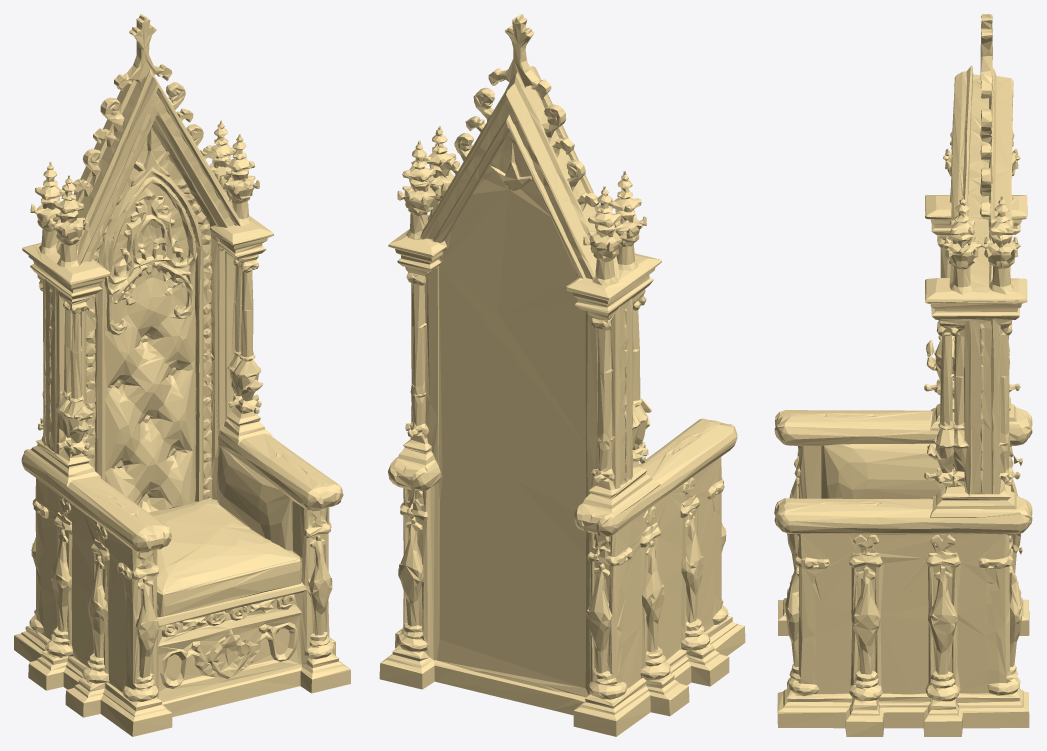
The model's file is throne.glb.
The picture shows the model from 3 angles, left to right: view 1: azimuth 30°, elevation 25°; view 2: azimuth 150°, elevation 25°; view 3: azimuth 270°, elevation 25°; orthographic projection. The views are drawn at different scales.
Parts seen in each view (by area): view 1: mesh_node; view 2: mesh_node; view 3: mesh_node.
Boxes of the visible parts, x1,y1,x2,y2 form: mesh_node: (14, 14, 350, 736); mesh_node: (379, 14, 745, 736); mesh_node: (774, 14, 1032, 736).
Size of the model in its own units: 0.8081 by 1.9 by 0.675.
